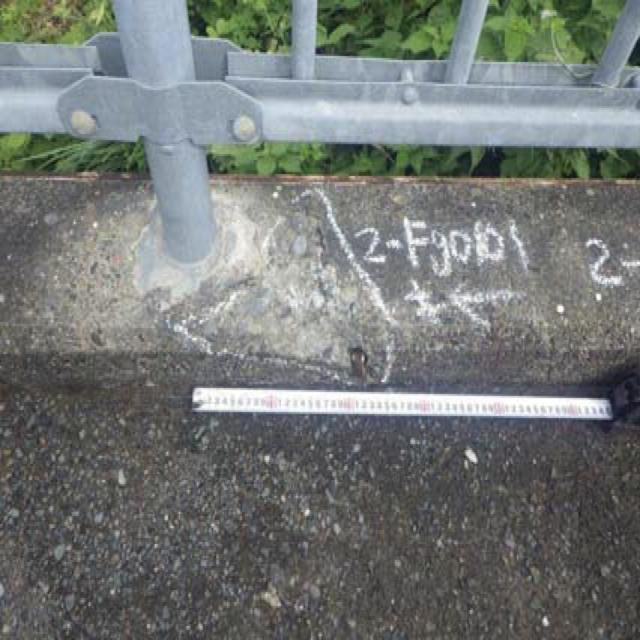spalling: (199, 221, 427, 396)
